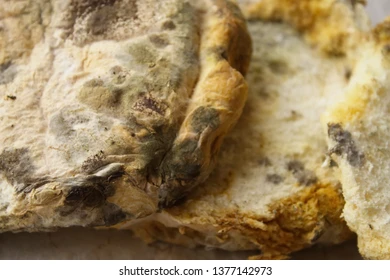Cladosporium: (4, 156, 123, 224), (160, 105, 219, 189), (317, 122, 365, 165), (65, 1, 113, 38)
